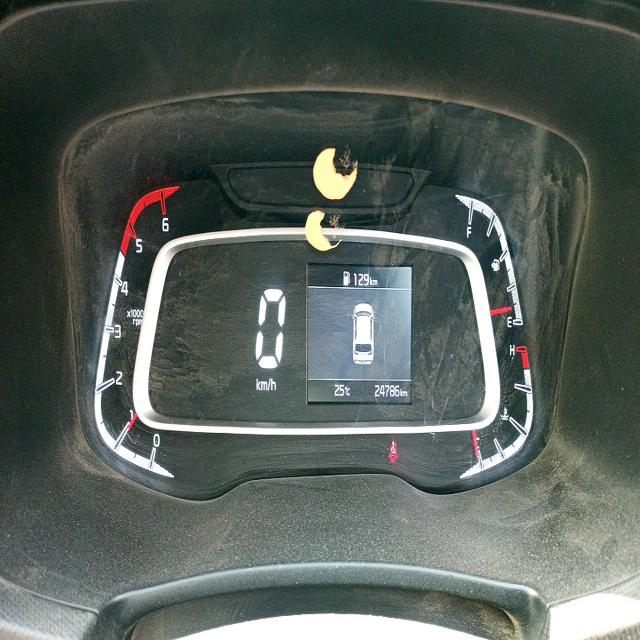odometer: (374, 382, 400, 400)
